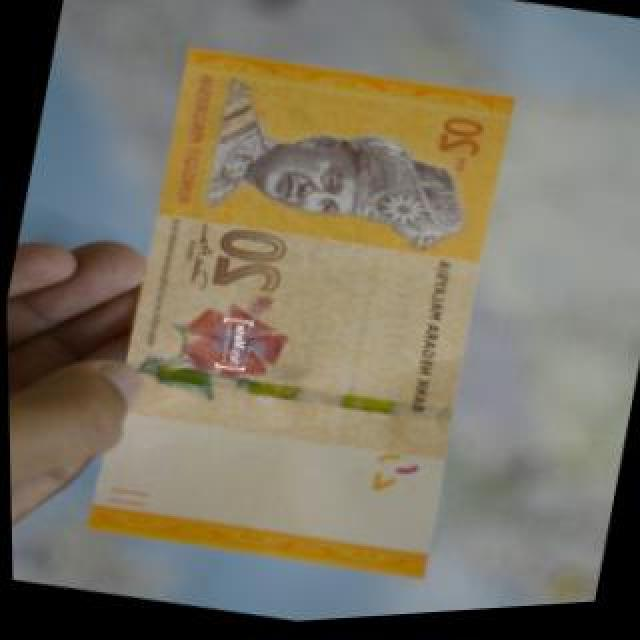20 Ringgit: (74, 29, 516, 606)
